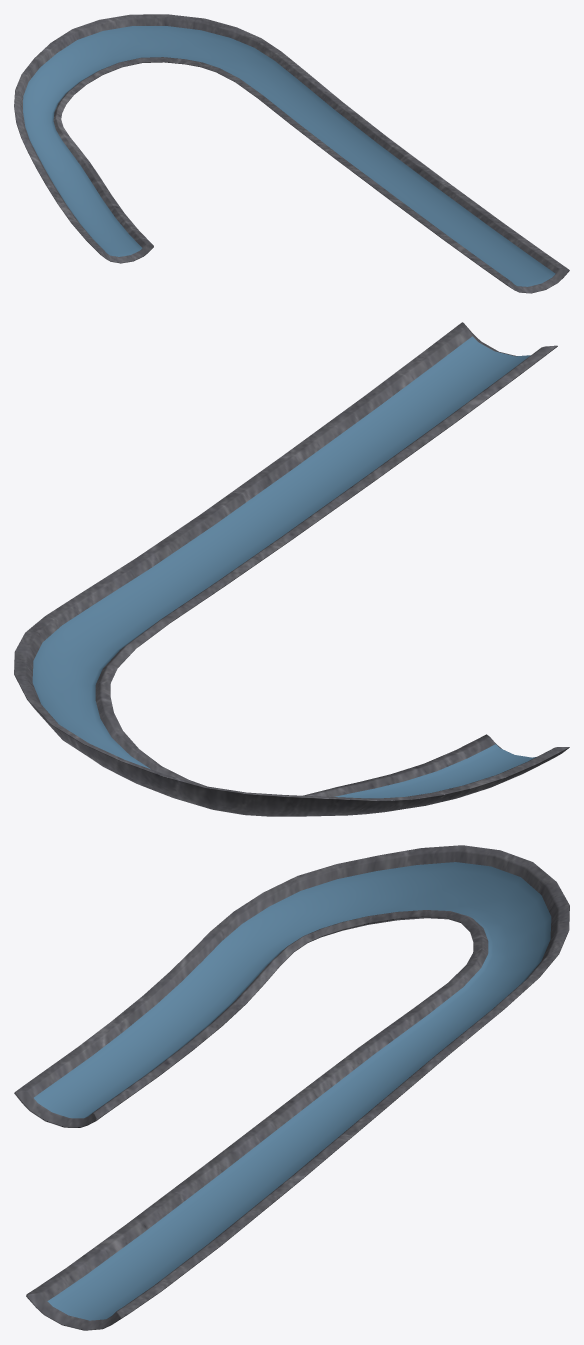
Rendered from slider_new (3).fbx.
The picture shows the model from 3 angles, top to bottom: view 1: azimuth 30°, elevation 25°; view 2: azimuth 150°, elevation 25°; view 3: azimuth 330°, elevation 25°; orthographic projection. The views are drawn at different scales.
Visible parts, largest first — view 1: lo; view 2: lo; view 3: lo.
Boxes of the visible parts, x1,y1,x2,y2 form: lo: (14, 14, 569, 293); lo: (14, 322, 569, 816); lo: (14, 845, 569, 1330).
Bounding box in the file's own units: 21687 × 7676 × 50112.
2 materials, 1 textured.
